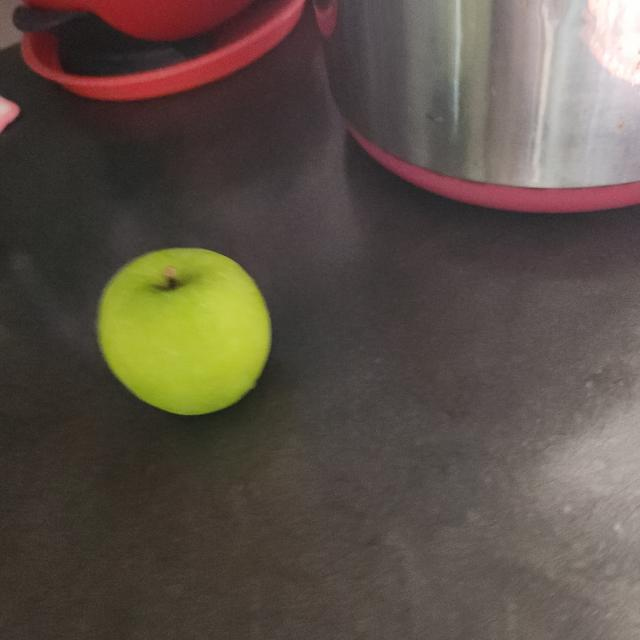apple: (94, 242, 287, 419)
